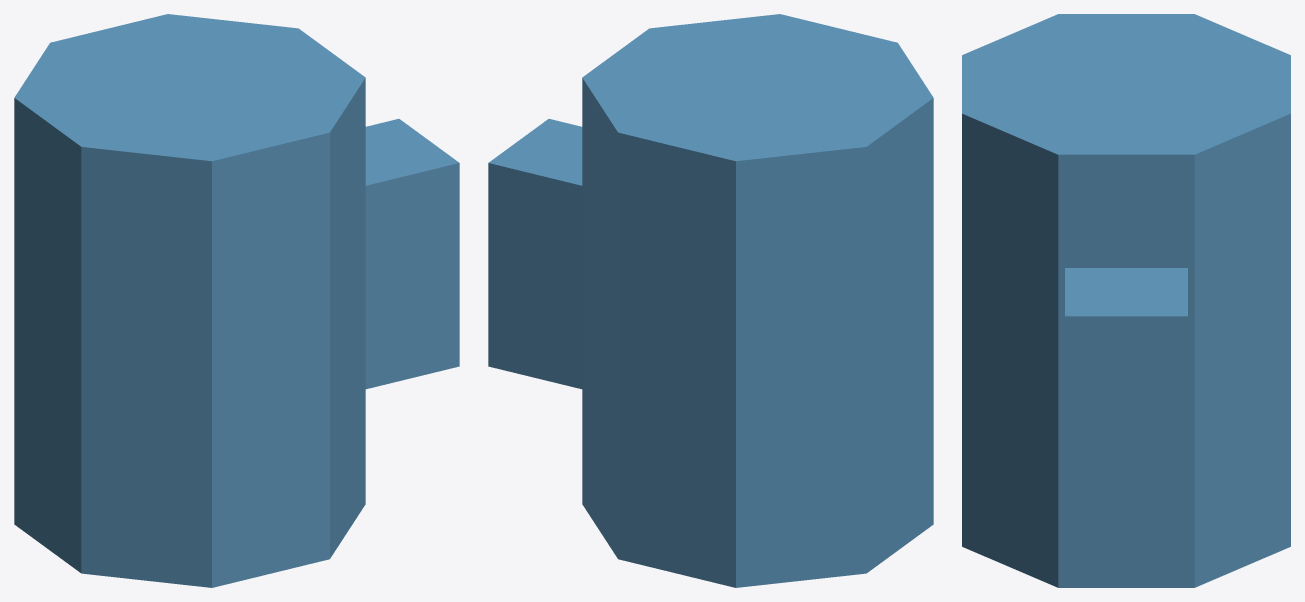
File: mug_d1.glb
3 renders of one model, left to right at view 1: azimuth 30°, elevation 25°; view 2: azimuth 150°, elevation 25°; view 3: azimuth 270°, elevation 25°, orthographic.
Visible parts, largest first — view 1: mug_d1_body_blue, mug_d1_handle_block_blue; view 2: mug_d1_body_blue, mug_d1_handle_block_blue; view 3: mug_d1_body_blue, mug_d1_handle_block_blue.
Part boxes in pixels (<box>): mug_d1_body_blue: <box>14,14,365,587</box>; mug_d1_handle_block_blue: <box>365,119,459,389</box>; mug_d1_body_blue: <box>582,14,933,587</box>; mug_d1_handle_block_blue: <box>488,119,582,389</box>; mug_d1_body_blue: <box>962,14,1290,587</box>; mug_d1_handle_block_blue: <box>1065,268,1187,522</box>.
Size of the model in its own units: 0.102 by 0.109 by 0.075.
